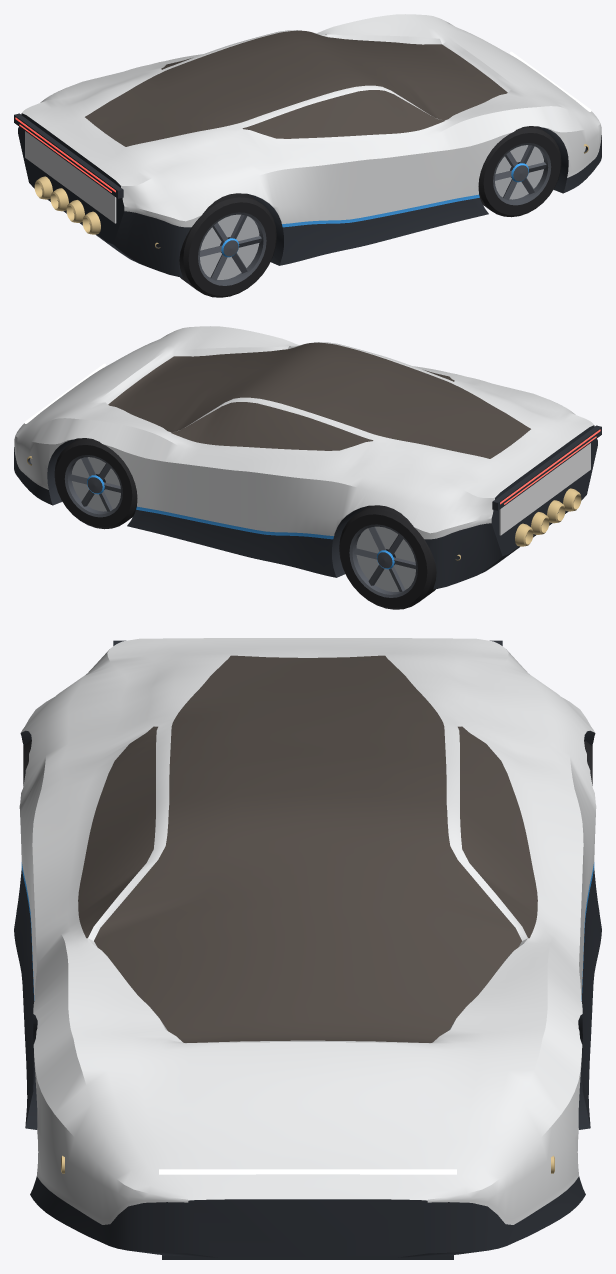
3 views of the same model, one above another, from view 1: azimuth 30°, elevation 25°; view 2: azimuth 150°, elevation 25°; view 3: azimuth 270°, elevation 25° (orthographic). The views are drawn at different scales.
Visible parts, largest first — view 1: jet-coupe-body, wheel-rear-right, wheel-front-right; view 2: jet-coupe-body, wheel-rear-left, wheel-front-left; view 3: jet-coupe-body.
Part boxes in pixels (<box>): jet-coupe-body: <box>14,14,601,277</box>; wheel-rear-right: <box>179,193,276,297</box>; wheel-front-right: <box>478,126,561,217</box>; jet-coupe-body: <box>14,326,601,589</box>; wheel-rear-left: <box>339,505,436,609</box>; wheel-front-left: <box>54,438,137,529</box>; jet-coupe-body: <box>14,638,601,1259</box>.
Bounding box in the file's own units: 1.44 × 0.4055 × 0.7852.
